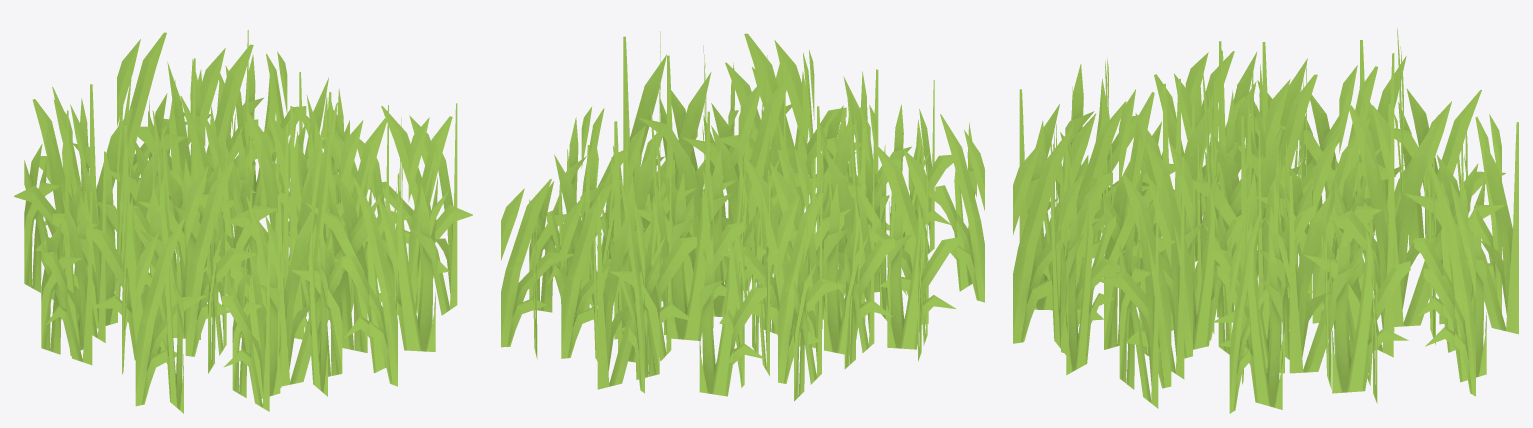
The model's file is SM_Env_Rapeseed_Clump_01.glb.
The picture shows the model from 3 angles, left to right: view 1: azimuth 30°, elevation 25°; view 2: azimuth 150°, elevation 25°; view 3: azimuth 270°, elevation 25°; orthographic projection. The views are drawn at different scales.
Visible parts, largest first — view 1: SM_Env_Rapeseed_Clump_01; view 2: SM_Env_Rapeseed_Clump_01; view 3: SM_Env_Rapeseed_Clump_01.
Part boxes in pixels (x1,y1,x2,y2): SM_Env_Rapeseed_Clump_01: [14, 30, 472, 413]; SM_Env_Rapeseed_Clump_01: [501, 31, 984, 401]; SM_Env_Rapeseed_Clump_01: [1013, 28, 1518, 413].
Bounding box in the file's own units: 2.17 × 1.3 × 2.28.
Materials: 1 (1 with a texture image).
